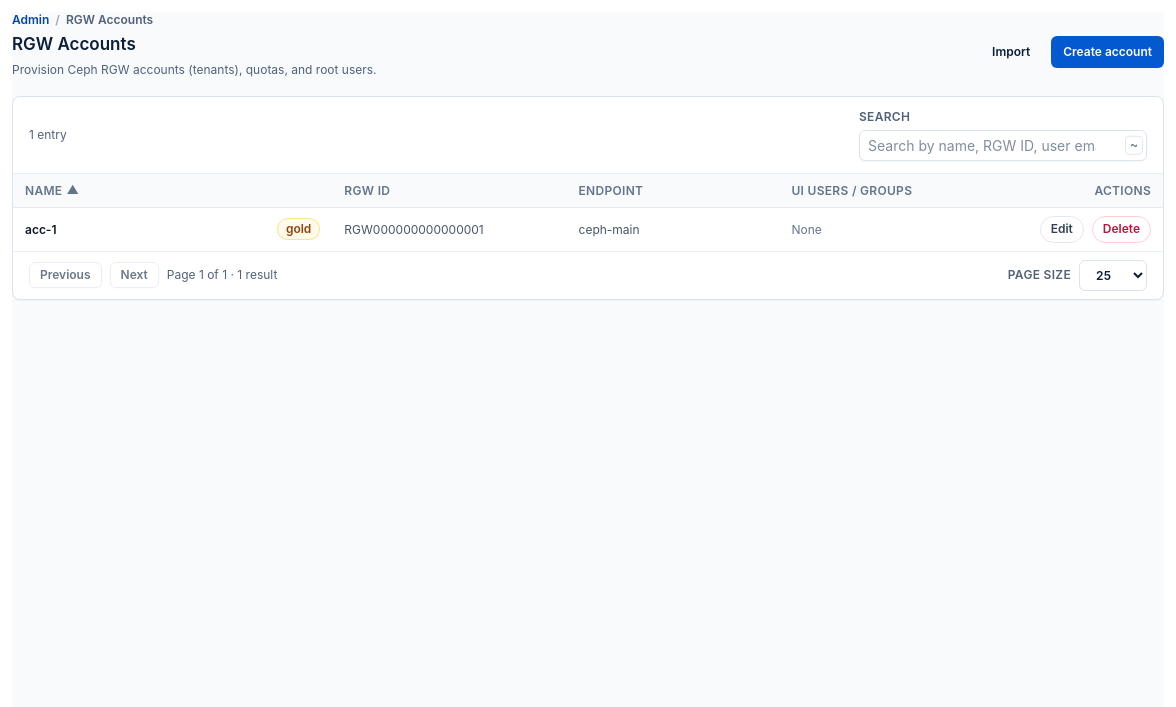
it: AccountsPage modal tabs › shows portal overrides tab when the portal feature is enabled
Expected: the text "acc-1" is shown, x1=25 y1=222 x2=56 y2=236
Click the button "Edit": coordinates (1062, 229) x1=1040 y1=216 x2=1084 y2=243
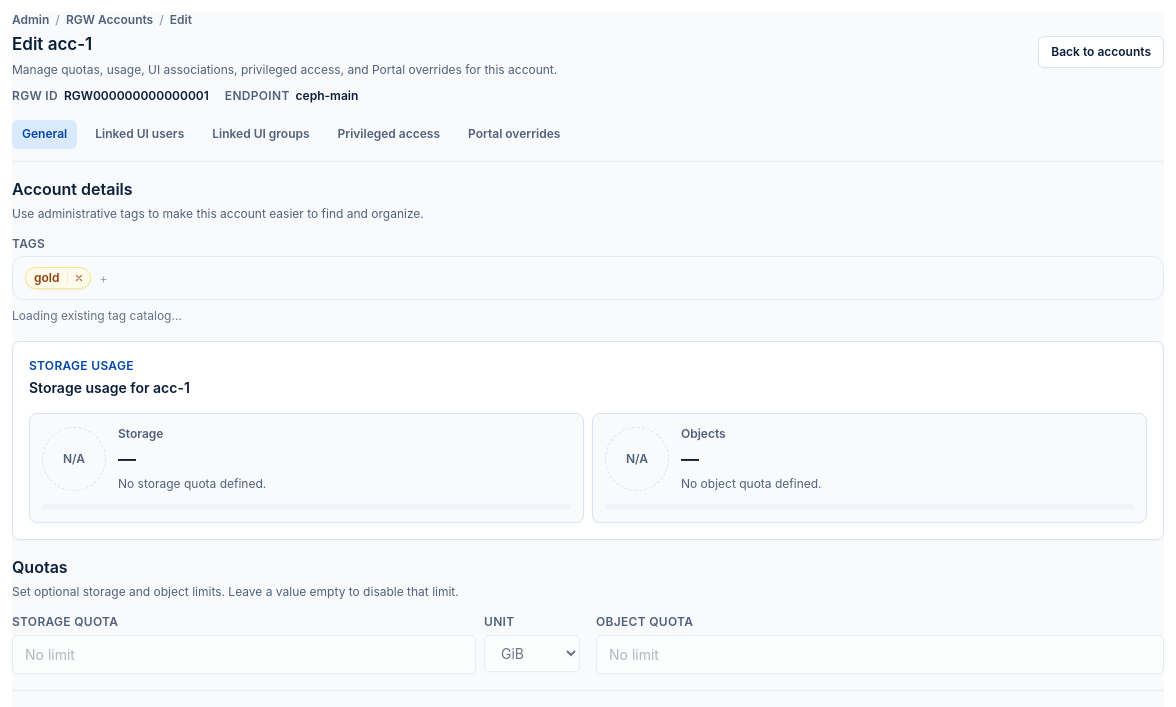
Click the tab "Portal overrides": coordinates (514, 134) x1=458 y1=120 x2=570 y2=148
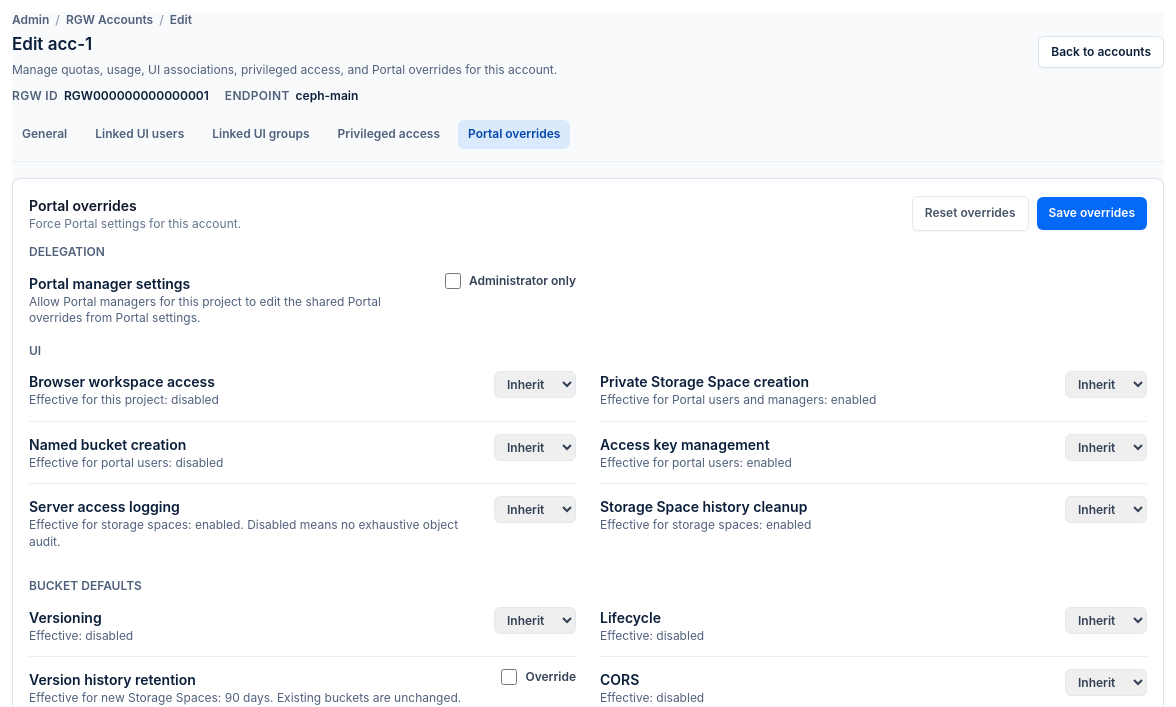
Expected: the text "Private Storage Space creation" is shown, x1=600 y1=373 x2=809 y2=390
Expected: the text "Server access logging" is shown, x1=29 y1=498 x2=180 y2=515
Expected: the text "Storage Space history cleanup" is shown, x1=600 y1=496 x2=811 y2=517
